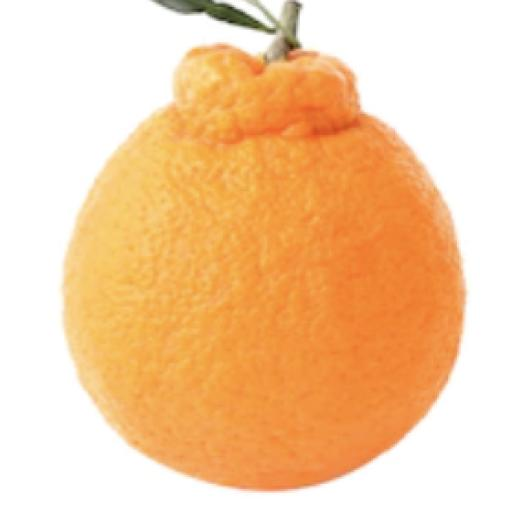orange: (64, 46, 464, 489)
